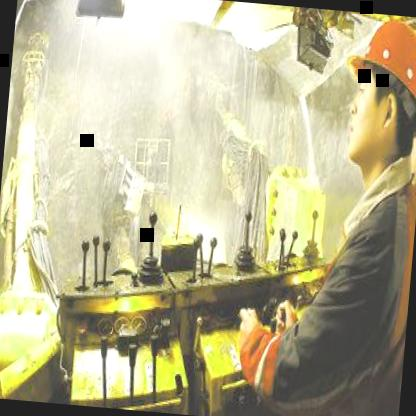helmet: (330, 11, 416, 188)
